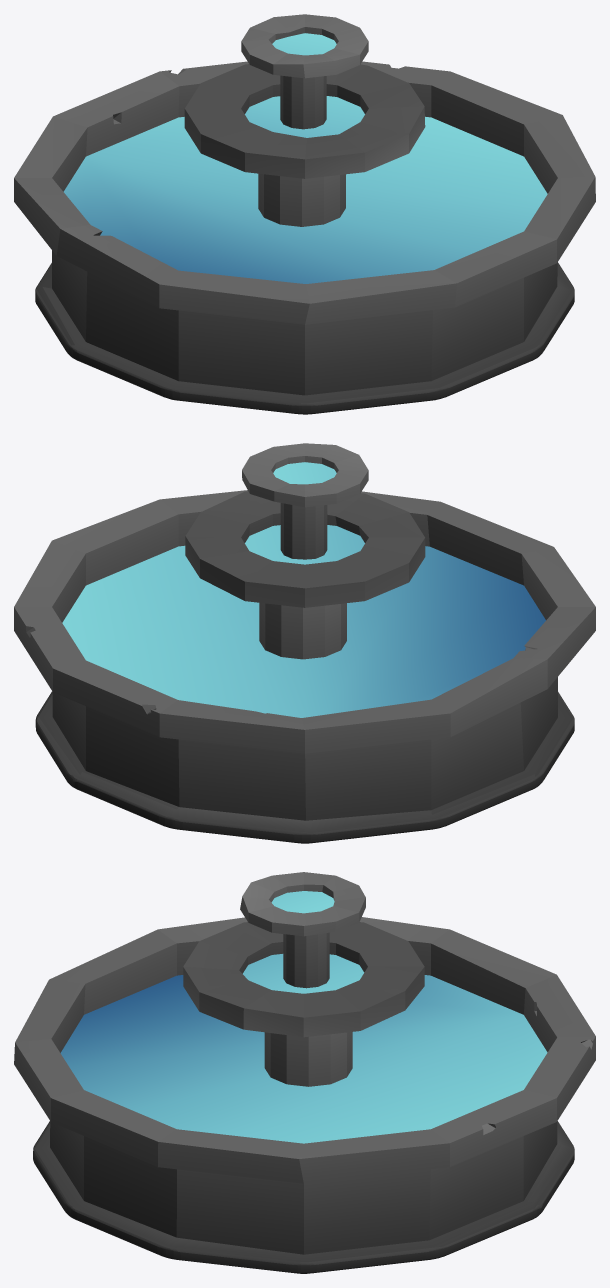
The model's file is SM_Fountain.fbx.
The picture shows the model from 3 angles, top to bottom: view 1: azimuth 30°, elevation 25°; view 2: azimuth 150°, elevation 25°; view 3: azimuth 270°, elevation 25°; orthographic projection.
Visible parts, largest first — view 1: Fountain; view 2: Fountain; view 3: Fountain.
Part boxes in pixels (x1,y1,x2,y2): Fountain: (14,14,595,414); Fountain: (14,443,595,843); Fountain: (14,872,595,1273).
Size of the model in its own units: 8.4 by 4.22 by 8.42.
